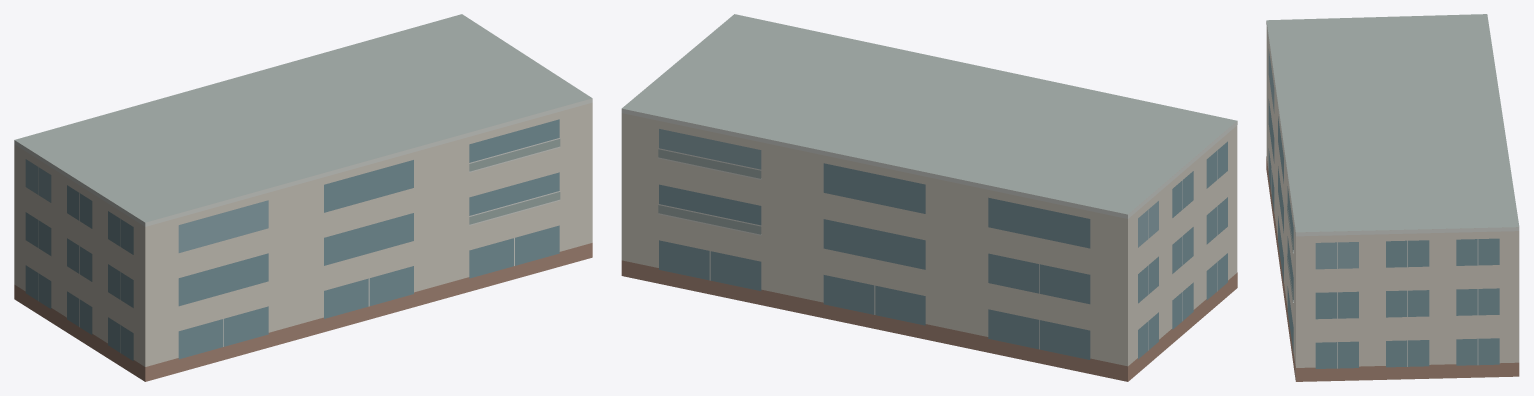
The model's file is survey-upis-32800529.glb.
3 renders of one model, left to right at view 1: azimuth 30°, elevation 25°; view 2: azimuth 150°, elevation 25°; view 3: azimuth 270°, elevation 25°, orthographic. The views are drawn at different scales.
Parts seen in each view (by area): view 1: survey-upis-32800529.tmp; view 2: survey-upis-32800529.tmp; view 3: survey-upis-32800529.tmp.
Boxes of the visible parts, <box> form: survey-upis-32800529.tmp: <box>14,14,592,381</box>; survey-upis-32800529.tmp: <box>621,14,1237,381</box>; survey-upis-32800529.tmp: <box>1266,14,1519,381</box>.
Size of the model in its own units: 28.66 by 9.15 by 14.04.
